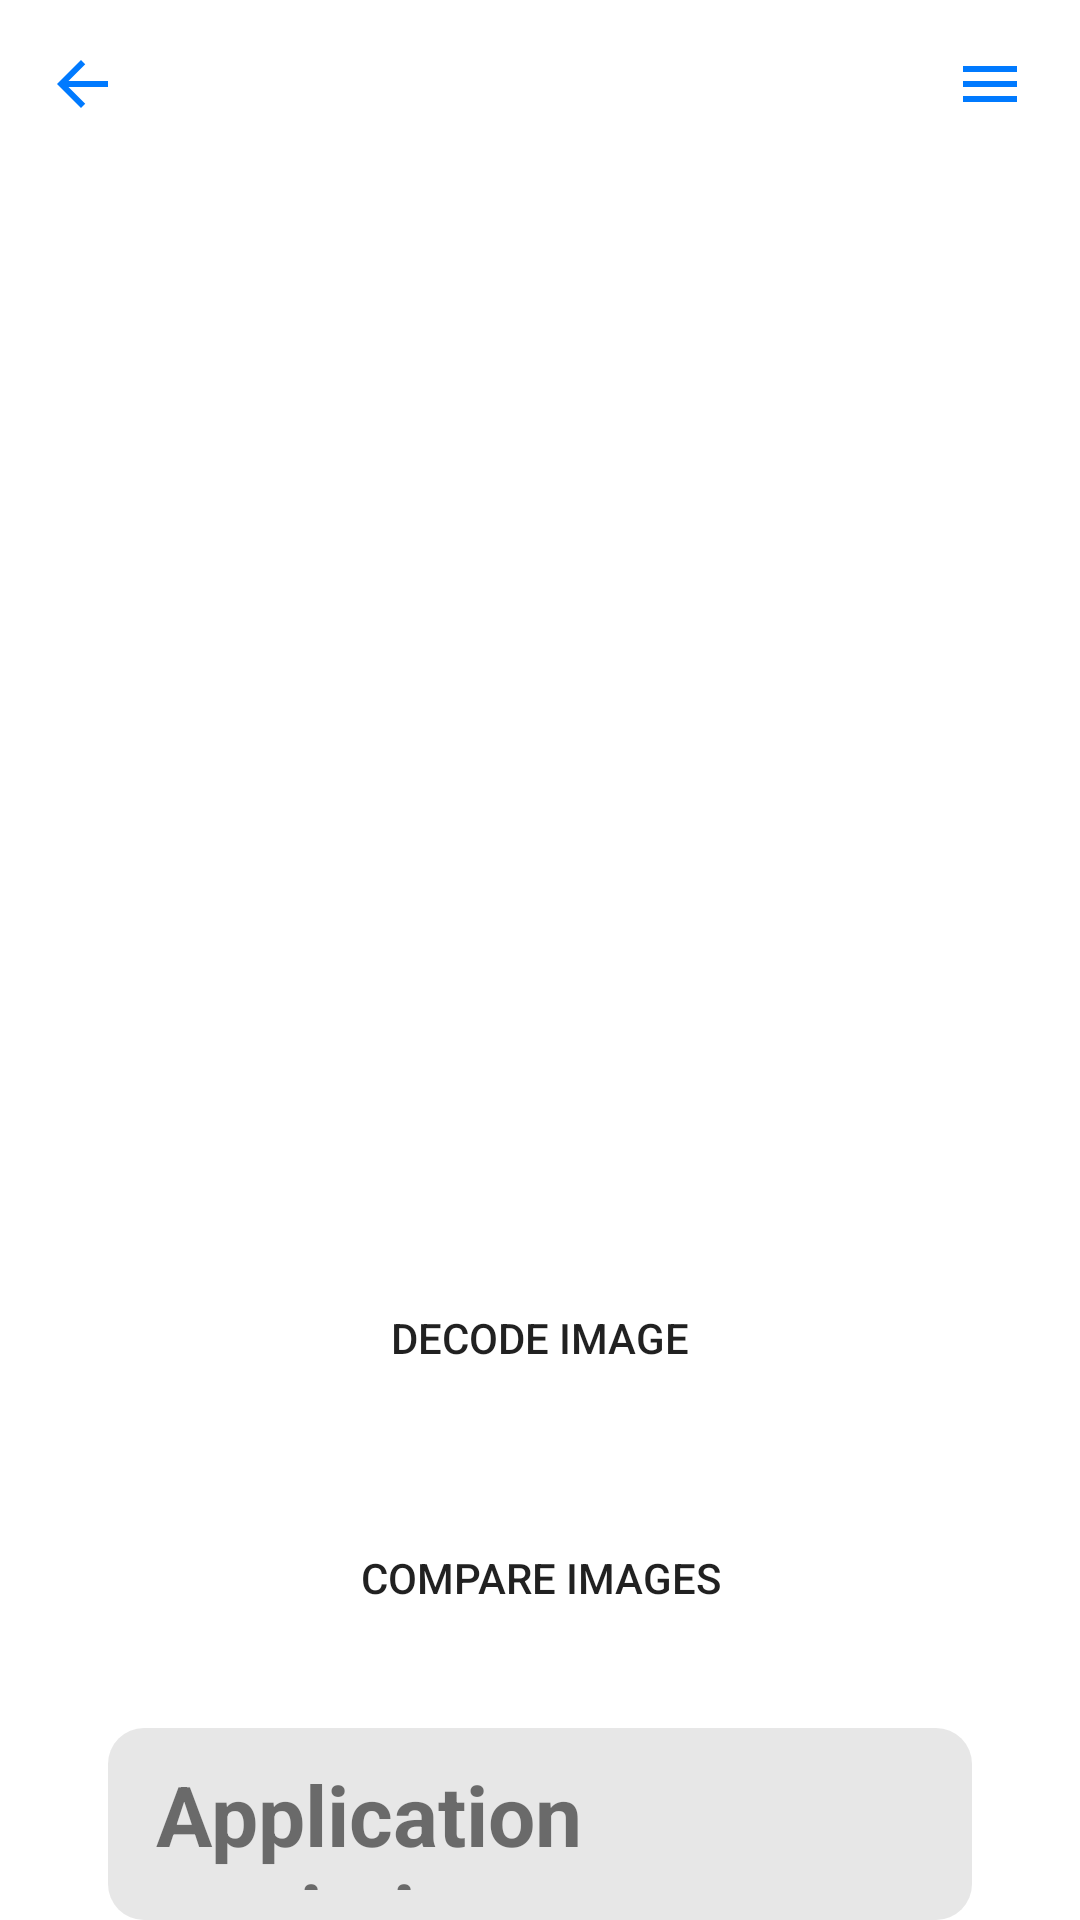

Locate icon controls on the screen. Image size 1080x1920, boxes as (x1, y1, x2, y2).
back: (57, 60, 108, 108)
menu: (963, 66, 1017, 102)
